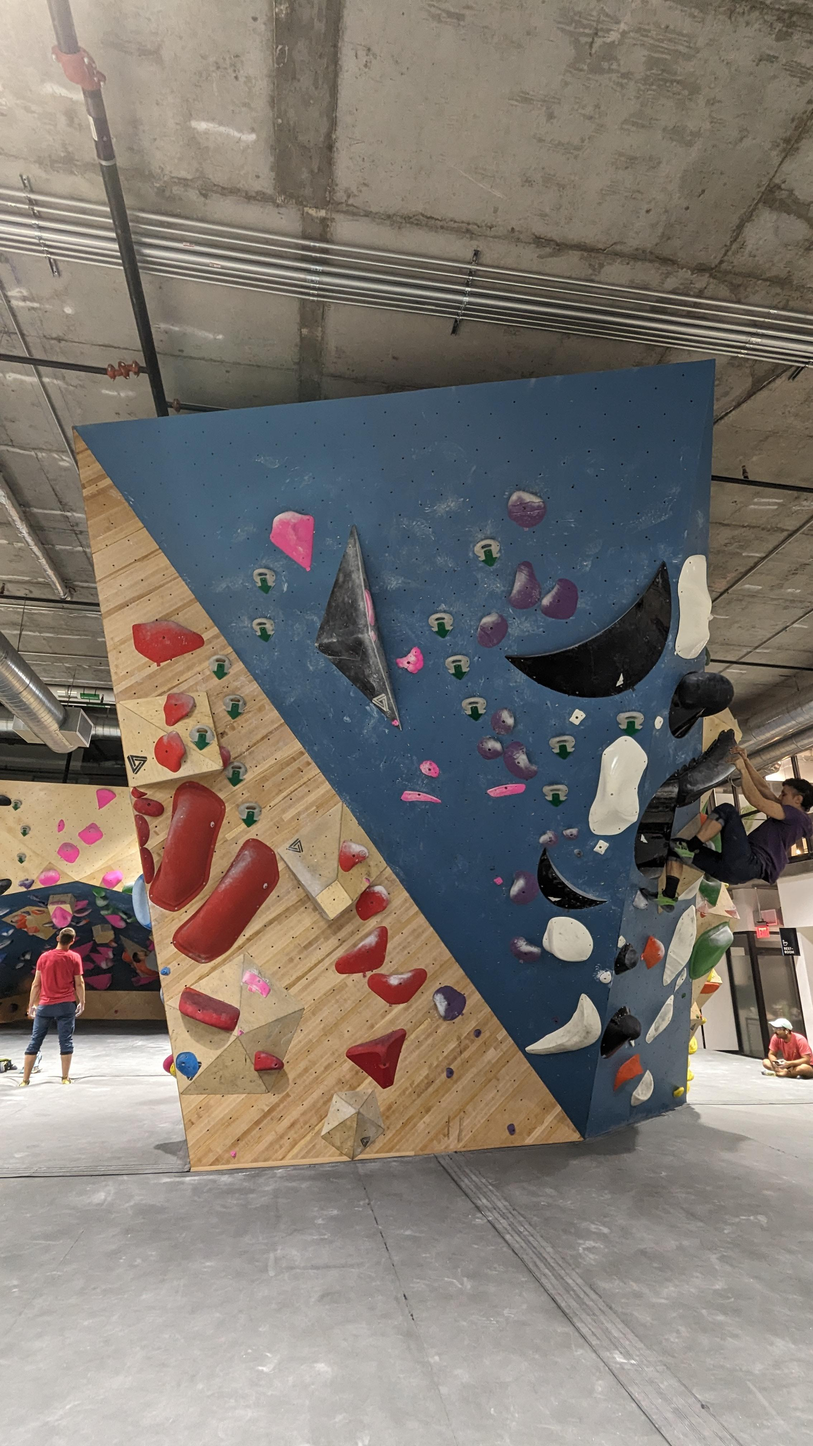black-hold: (497, 559, 710, 733), (167, 831, 293, 975), (145, 777, 231, 919), (657, 724, 754, 815), (521, 992, 614, 1081), (647, 655, 742, 742), (520, 847, 609, 930), (586, 732, 651, 841), (629, 763, 682, 882), (343, 1025, 424, 1098), (328, 923, 403, 989), (676, 913, 741, 987), (674, 553, 714, 660), (659, 902, 704, 991), (584, 1003, 647, 1064), (174, 985, 244, 1036), (539, 912, 599, 967), (132, 619, 205, 664), (266, 509, 317, 569), (535, 574, 589, 629), (503, 558, 551, 616), (366, 967, 430, 1008), (496, 736, 543, 788), (501, 486, 551, 534), (640, 994, 684, 1047), (347, 878, 395, 926), (152, 684, 198, 732), (148, 725, 192, 774), (427, 979, 473, 1025), (473, 608, 513, 654), (603, 1052, 649, 1092), (504, 932, 546, 969), (128, 873, 153, 934), (627, 1068, 661, 1112), (632, 933, 670, 971), (334, 839, 371, 878), (469, 532, 506, 569), (508, 868, 541, 908), (545, 726, 581, 762), (393, 645, 430, 680), (423, 605, 459, 640), (613, 703, 649, 738), (170, 1046, 205, 1081), (184, 719, 219, 754), (440, 647, 475, 682), (457, 688, 492, 723), (539, 775, 574, 810), (472, 730, 507, 765), (248, 561, 282, 595), (203, 649, 237, 683), (233, 796, 267, 830), (676, 873, 710, 907), (218, 689, 251, 721), (248, 611, 280, 643), (220, 756, 252, 788), (240, 969, 274, 999), (695, 872, 724, 907), (488, 706, 518, 738), (131, 794, 166, 821), (89, 782, 118, 810), (76, 821, 105, 849), (138, 845, 158, 885), (55, 838, 83, 866), (614, 943, 638, 974), (486, 781, 527, 799), (99, 865, 126, 892), (417, 756, 443, 781), (134, 813, 152, 848), (254, 1050, 284, 1071), (536, 827, 560, 852), (36, 866, 63, 888), (628, 889, 652, 913), (671, 966, 690, 994), (401, 791, 440, 802), (364, 589, 375, 627), (568, 707, 587, 727), (724, 903, 743, 922), (218, 744, 233, 768), (129, 786, 148, 803), (593, 838, 610, 856), (700, 981, 720, 996), (694, 900, 710, 917), (598, 970, 614, 986), (561, 827, 579, 840), (671, 1086, 687, 1100), (688, 1035, 698, 1056), (652, 715, 665, 731), (506, 1123, 518, 1137), (616, 935, 627, 949), (706, 967, 715, 983), (572, 848, 585, 859), (159, 966, 171, 977), (493, 875, 504, 887), (472, 1027, 483, 1039), (370, 629, 379, 642), (686, 1069, 695, 1082), (57, 819, 65, 833), (698, 1016, 708, 1027), (446, 1067, 454, 1079), (391, 719, 400, 728), (229, 1149, 238, 1158), (363, 877, 372, 885), (698, 912, 707, 920), (629, 1040, 635, 1048), (686, 1083, 690, 1094), (238, 1029, 244, 1036), (688, 1058, 691, 1068), (681, 992, 686, 998), (695, 1014, 700, 1019), (700, 1013, 702, 1020)
